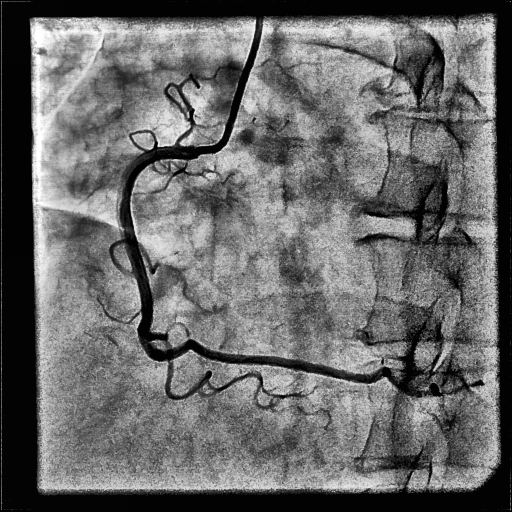pda: (367, 367, 484, 397)
rca: (120, 146, 371, 383)
